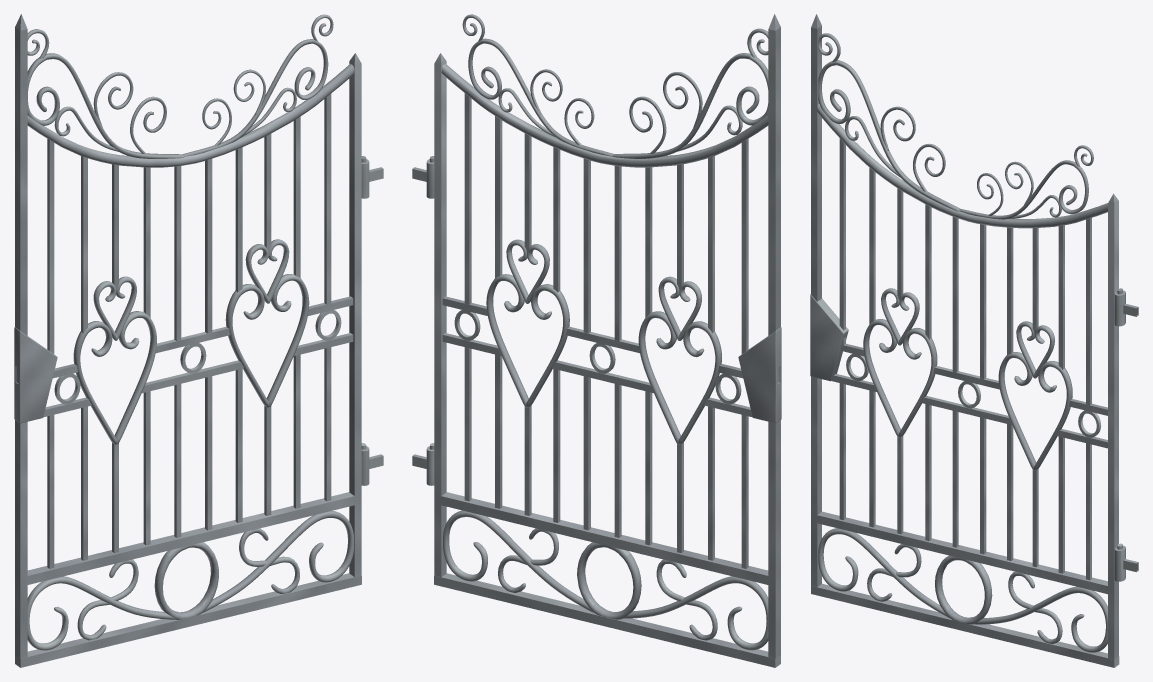
File: puerta2_n.obj
3 renders of one model, left to right at view 1: azimuth 30°, elevation 25°; view 2: azimuth 150°, elevation 25°; view 3: azimuth 330°, elevation 25°, orthographic. The views are drawn at different scales.
Visible parts, largest first — view 1: puerta2_n; view 2: puerta2_n; view 3: puerta2_n.
Part boxes in pixels (<box>): puerta2_n: <box>14,14,383,667</box>; puerta2_n: <box>412,14,781,667</box>; puerta2_n: <box>810,14,1138,667</box>.
Size of the model in its own units: 9.99 by 17 by 0.3658.
